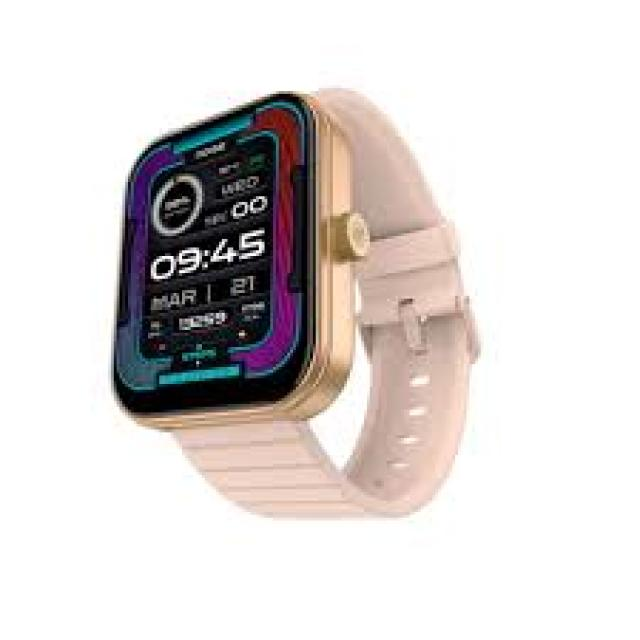objects: (112, 91, 475, 524)
